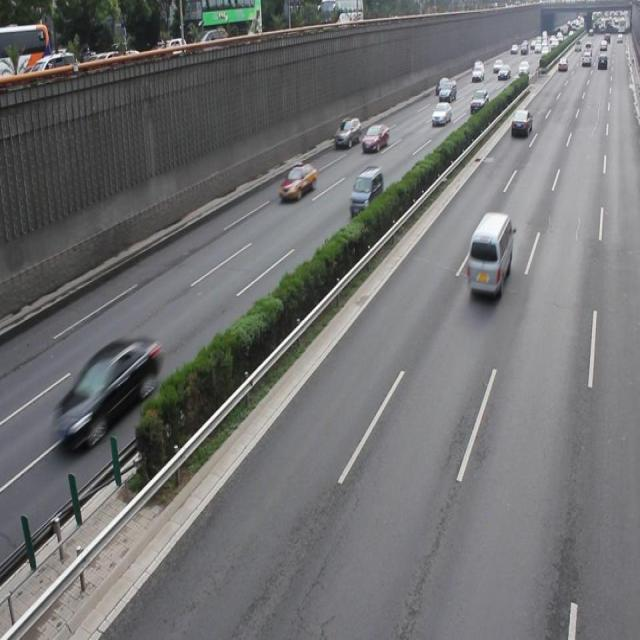car: (59, 335, 158, 445), (280, 162, 316, 201)
truck: (466, 211, 511, 293), (349, 167, 383, 215)
